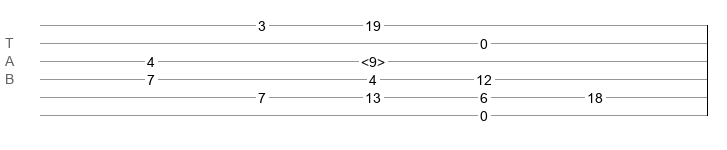0: (480, 36, 488, 46), (480, 108, 488, 118)
12: (476, 72, 492, 82)
13: (365, 90, 381, 100)
18: (587, 90, 603, 100)
19: (365, 18, 381, 28)
3: (258, 18, 266, 28)
4: (147, 54, 155, 64), (369, 72, 377, 82)
6: (480, 90, 488, 100)
7: (147, 72, 155, 82), (258, 90, 266, 100)
harmonic: (361, 54, 385, 64)
